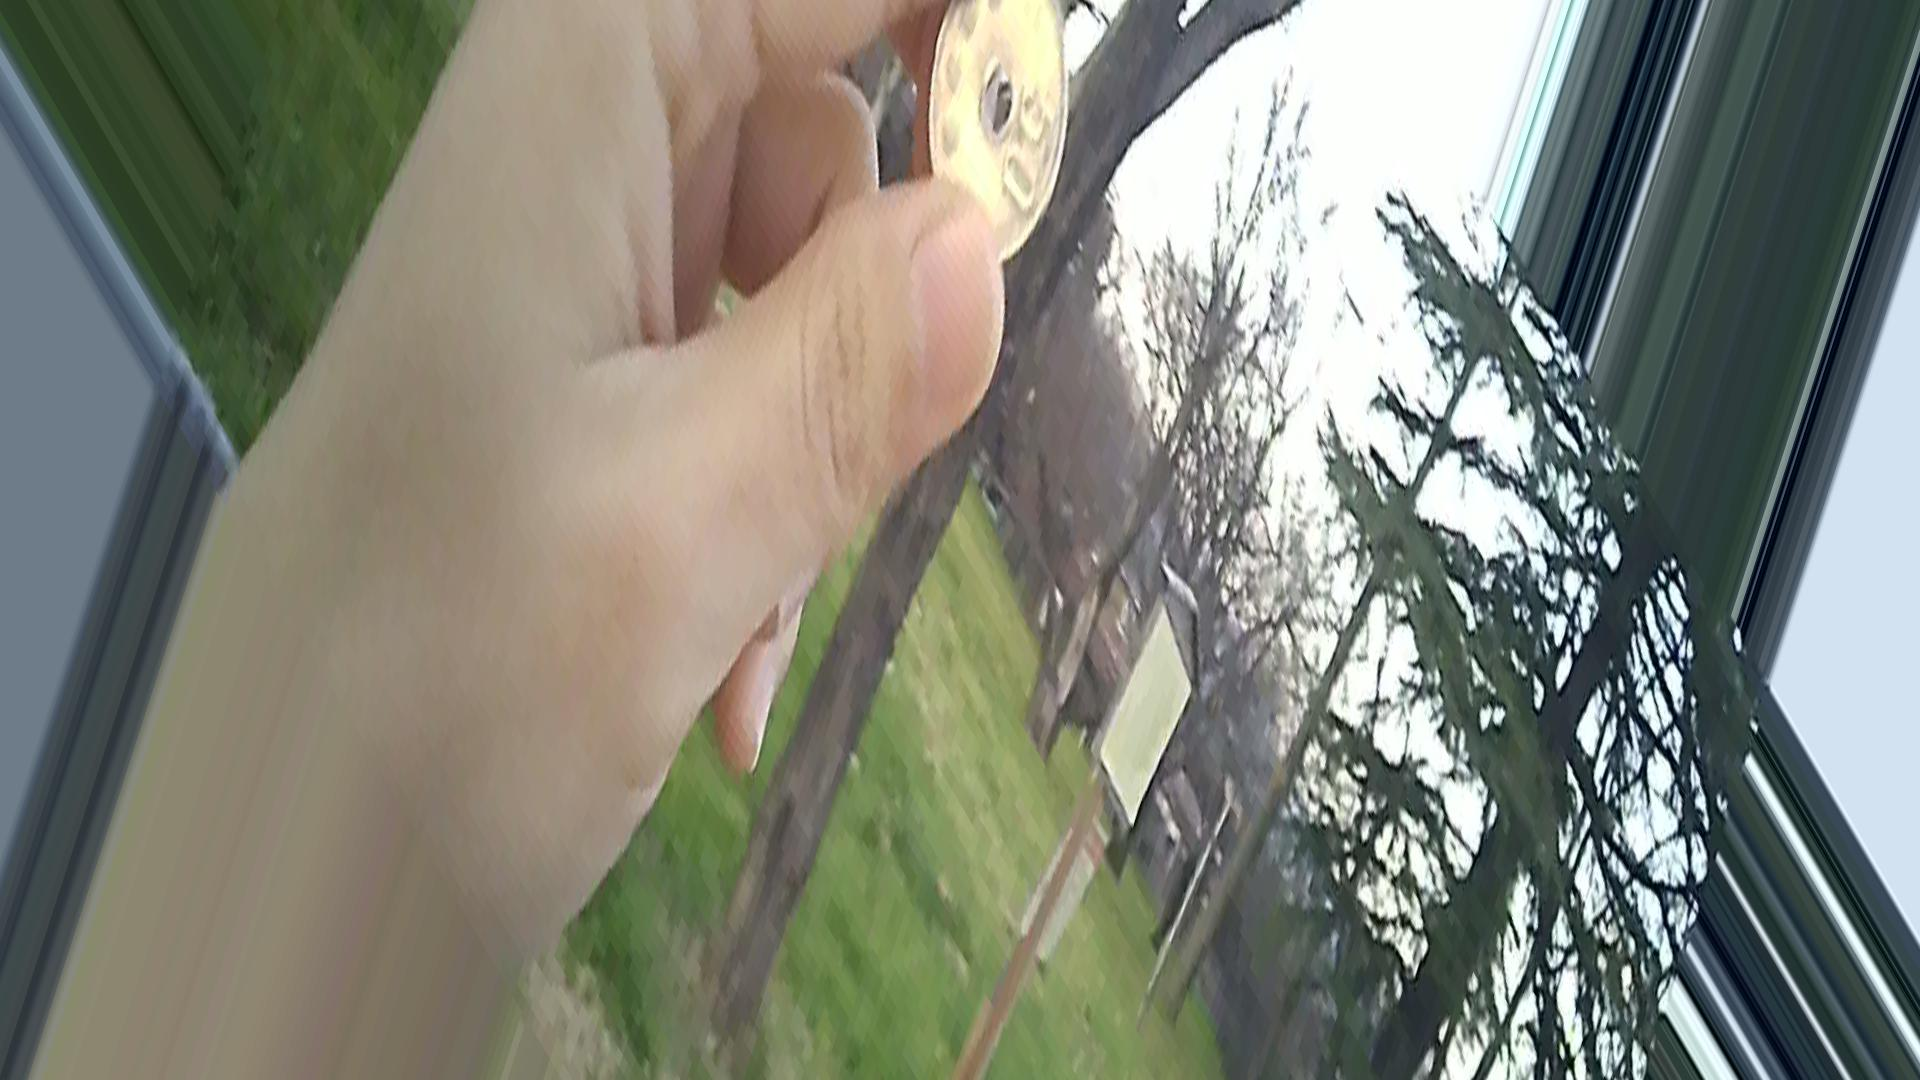50 Yen: (899, 7, 1073, 251)
